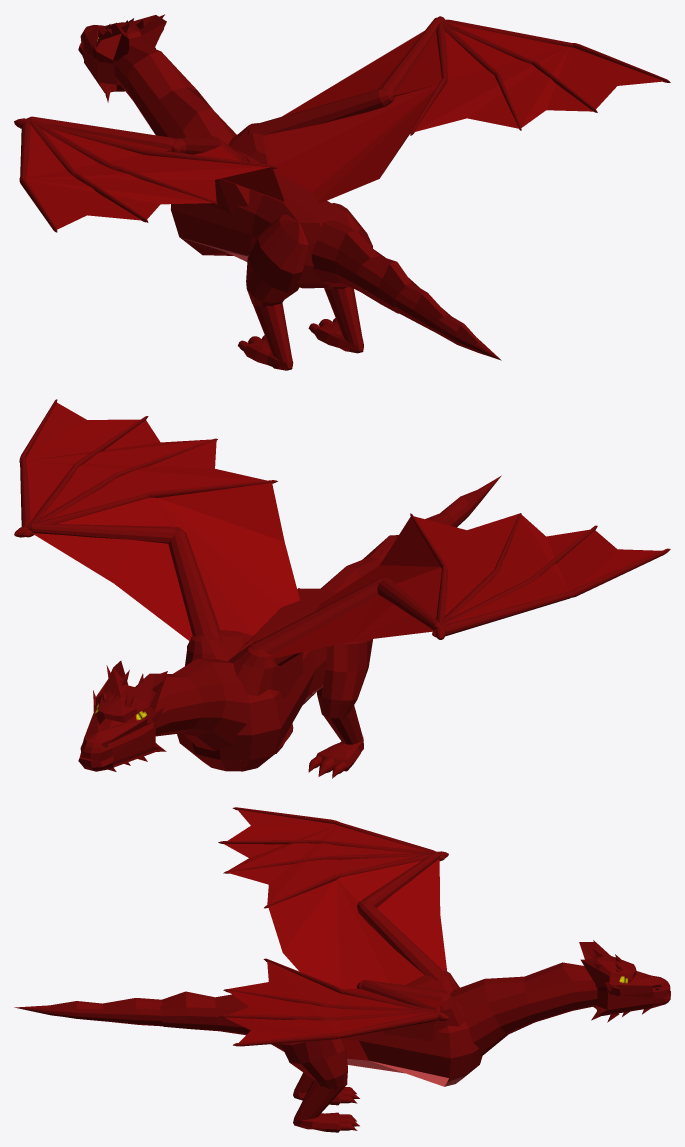
File: bossdragon.fbx
3 renders of one model, top to bottom at view 1: azimuth 30°, elevation 25°; view 2: azimuth 150°, elevation 25°; view 3: azimuth 270°, elevation 25°, orthographic. The views are drawn at different scales.
Visible parts, largest first — view 1: circle_5, circle_1, circle_6, sphere, sphere_1, sphere_9, sphere_16, sphere_10, sphere_33, sphere_3, circle_7, circle_2 (+14 smaller); view 2: circle_6, circle_5, circle_1, sphere_1, circle_7, circle_2, sphere_29, sphere, sphere_16, circle_3, sphere_33, sphere_3 (+19 smaller); view 3: circle_2, circle_1, sphere_1, circle_5, sphere, sphere_9, circle_3, sphere_10, sphere_4, sphere_19, sphere_3, sphere_29 (+13 smaller).
Part boxes in pixels (box(x1,y1,x2,y2)): circle_5: box(414, 23, 664, 131); circle_1: box(25, 125, 269, 229); circle_6: box(264, 32, 441, 203); sphere: box(171, 154, 350, 288); sphere_1: box(114, 43, 236, 145); sphere_9: box(311, 219, 419, 313); sphere_16: box(246, 214, 308, 307); sphere_10: box(395, 283, 501, 360); sphere_33: box(247, 88, 394, 135); sphere_3: box(95, 15, 166, 64); circle_7: box(330, 31, 424, 102); circle_2: box(81, 132, 297, 207); circle_6: box(25, 482, 299, 635); circle_5: box(25, 402, 266, 521); circle_1: box(414, 513, 661, 626); sphere_1: box(135, 658, 248, 751); circle_7: box(33, 533, 180, 591); circle_2: box(316, 517, 441, 619); sphere_29: box(177, 646, 280, 771); sphere: box(223, 588, 337, 769); sphere_16: box(317, 639, 372, 718); circle_3: box(324, 595, 432, 641); sphere_33: box(168, 527, 221, 641); sphere_3: box(93, 660, 167, 727); circle_2: box(268, 860, 424, 989); circle_1: box(223, 809, 427, 904); sphere_1: box(450, 962, 597, 1055); circle_5: box(225, 961, 436, 1042); sphere: box(271, 1026, 465, 1086); sphere_9: box(160, 991, 250, 1035); circle_3: box(376, 859, 440, 939); sphere_10: box(14, 998, 163, 1026); sphere_4: box(280, 1038, 347, 1090); sphere_19: box(357, 900, 444, 980); sphere_3: box(579, 942, 642, 996); sphere_29: box(446, 1022, 482, 1083).
Size of the model in its own units: 244 by 90.12 by 285.
Materials: 1 (1 with a texture image).
